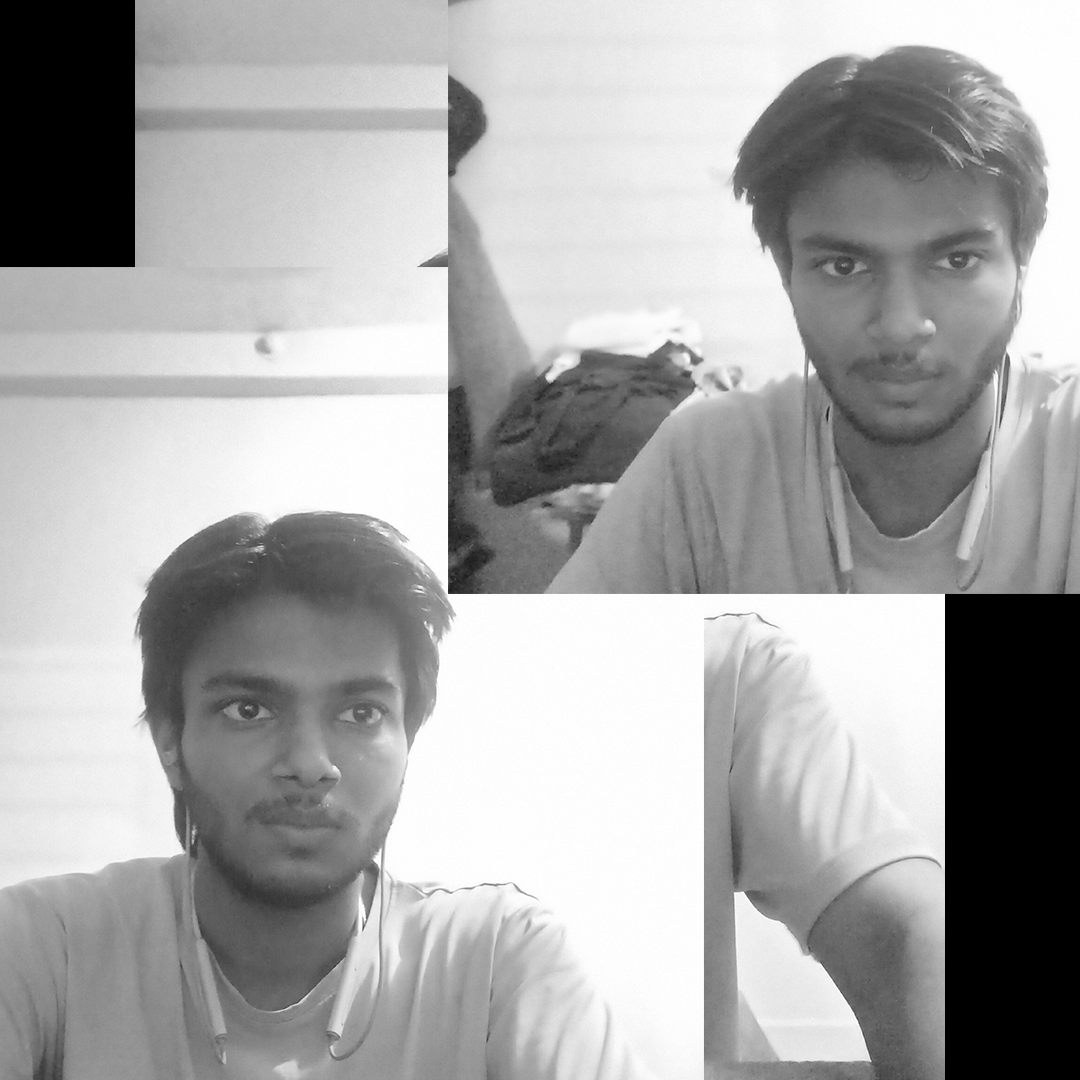Focused: (87, 433, 455, 1001), (690, 61, 1044, 473)
